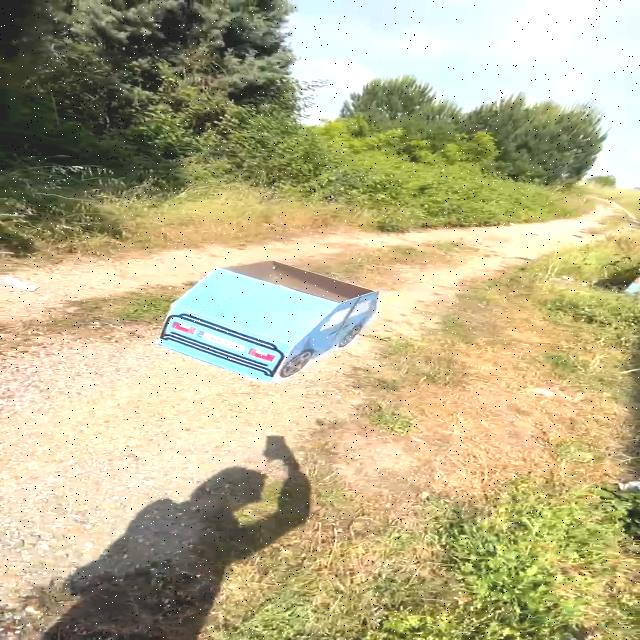blue_car: (146, 246, 387, 386)
